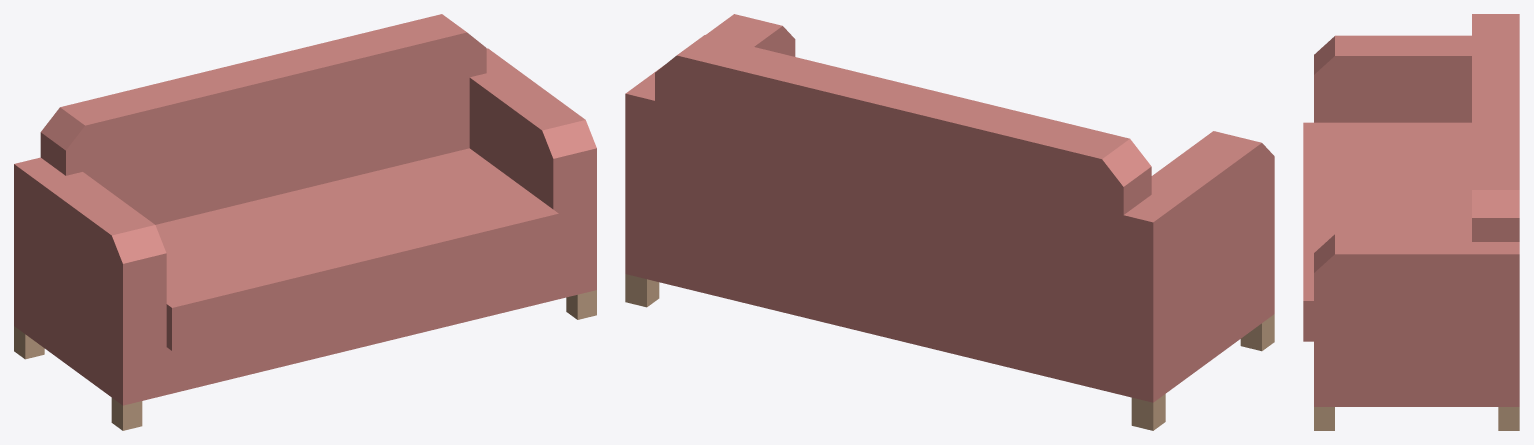
File: loungeSofa.glb
3 views of the same model, side by side, from view 1: azimuth 30°, elevation 25°; view 2: azimuth 150°, elevation 25°; view 3: azimuth 270°, elevation 25° (orthographic). The views are drawn at different scales.
Parts seen in each view (by area): view 1: loungeSofa; view 2: loungeSofa; view 3: loungeSofa.
Boxes of the visible parts, x1,y1,x2,y2 form: loungeSofa: (14,14,596,430); loungeSofa: (625,14,1274,430); loungeSofa: (1303,14,1519,430).
Bounding box in the file's own units: 0.98 × 0.46 × 0.41.
